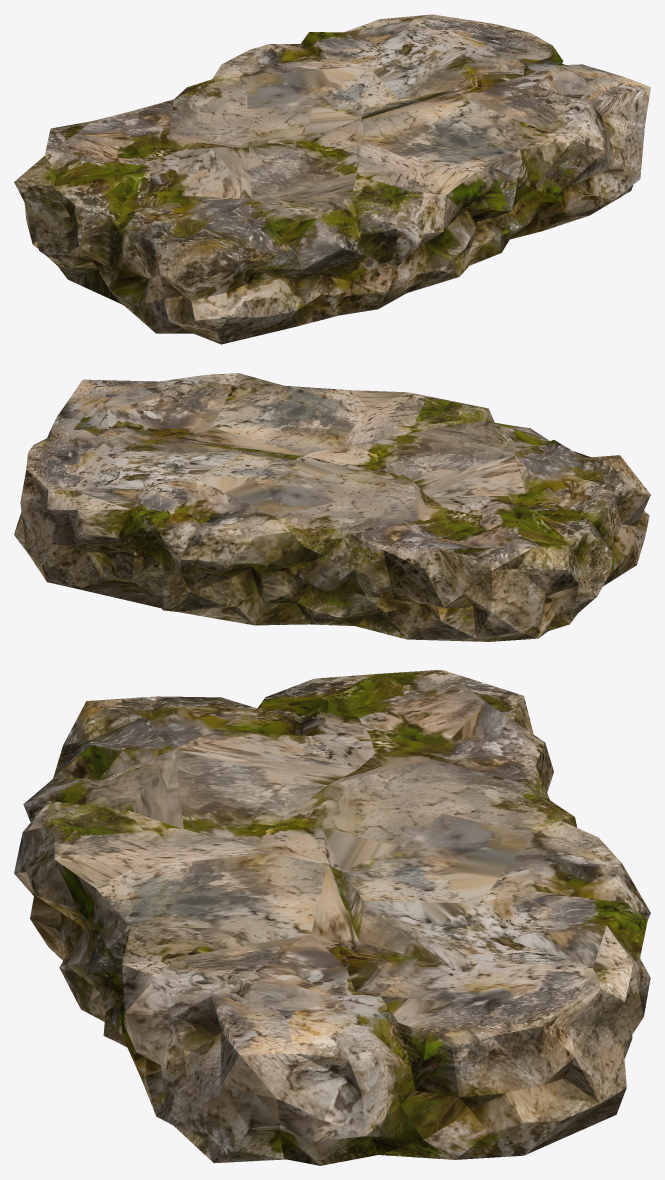
The model's file is ROC_RocaPlana_01_LOD2.fbx.
The picture shows the model from 3 angles, top to bottom: view 1: azimuth 30°, elevation 25°; view 2: azimuth 150°, elevation 25°; view 3: azimuth 270°, elevation 25°; orthographic projection. The views are drawn at different scales.
Visible parts, largest first — view 1: ROC_RocaPlana_01_Mesh000; view 2: ROC_RocaPlana_01_Mesh000; view 3: ROC_RocaPlana_01_Mesh000.
Boxes of the visible parts, x1,y1,x2,y2 form: ROC_RocaPlana_01_Mesh000: (14,14,650,344); ROC_RocaPlana_01_Mesh000: (14,373,650,641); ROC_RocaPlana_01_Mesh000: (14,670,650,1165).
Bounding box in the file's own units: 2.2 × 0.3846 × 1.47.
